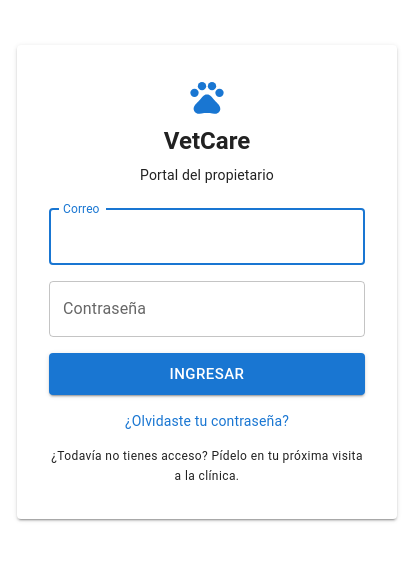
Test: LoginPortalPage (propietario) › correo o contraseña incorrectos muestra el mensaje de error y no deja la sesión iniciada
Step 1. Type "propietario@vetcare.local" into the field labelled "Correo" → (207, 237), box [49,209,365,265]
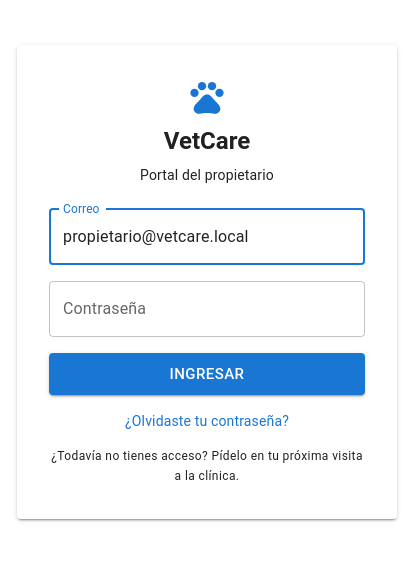
Step 2. Type "contraseñaIncorrecta" into the password field labelled "Contraseña" → (207, 309), box [49,281,365,337]
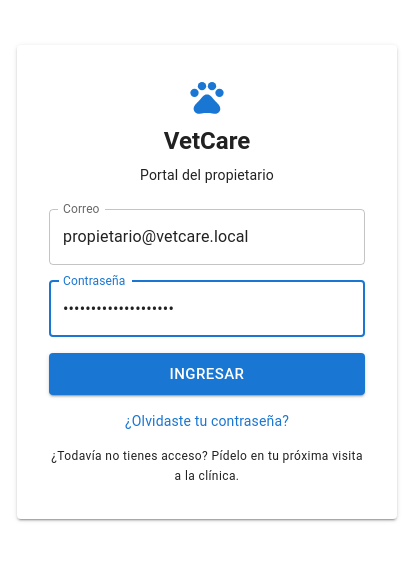
Step 3. Click the button "Ingresar" → (207, 374), box [49,353,365,395]
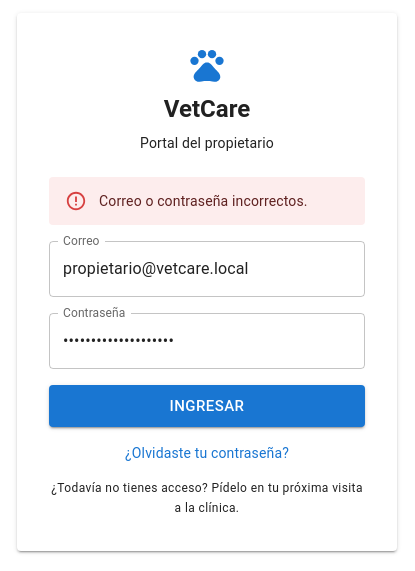
Expected: the text "Correo o contraseña incorrectos." is shown, [99,193,308,209]
